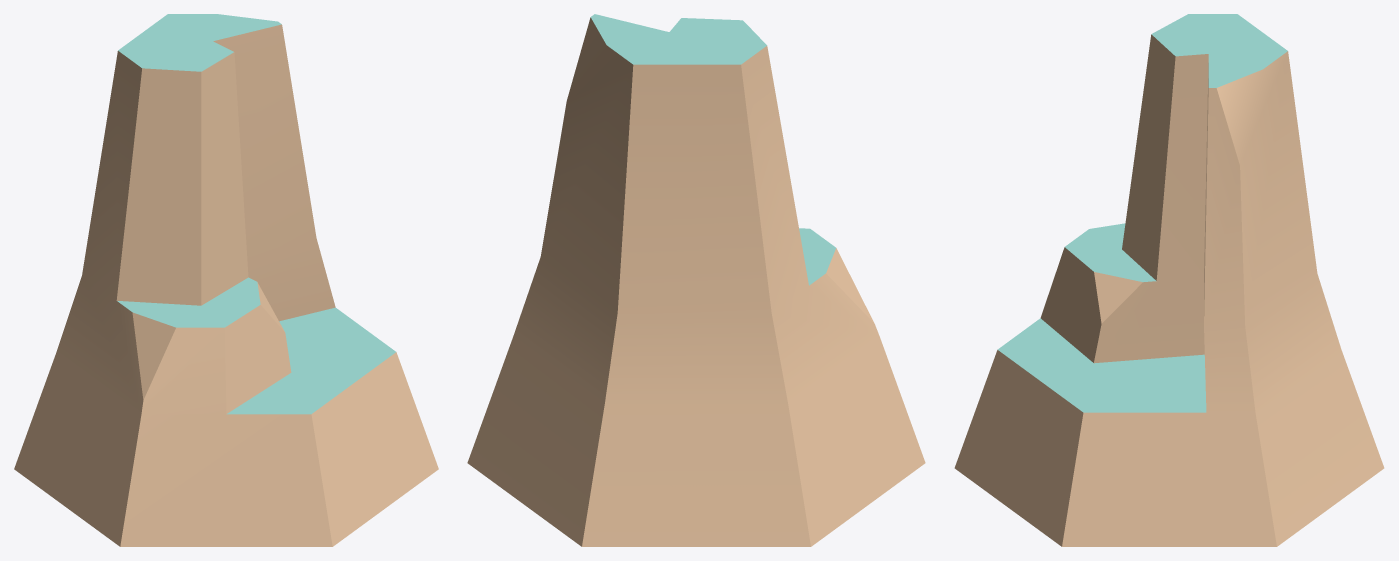
The model's file is rock_tall8.glb.
3 views of the same model, side by side, from view 1: azimuth 30°, elevation 25°; view 2: azimuth 150°, elevation 25°; view 3: azimuth 270°, elevation 25° (orthographic). The views are drawn at different scales.
Parts seen in each view (by area): view 1: rock_tall8; view 2: rock_tall8; view 3: rock_tall8.
Boxes of the visible parts, x1,y1,x2,y2 form: rock_tall8: (14, 14, 438, 546); rock_tall8: (467, 14, 925, 546); rock_tall8: (954, 14, 1384, 546).
Size of the model in its own units: 0.5749 by 0.7108 by 0.6639.
